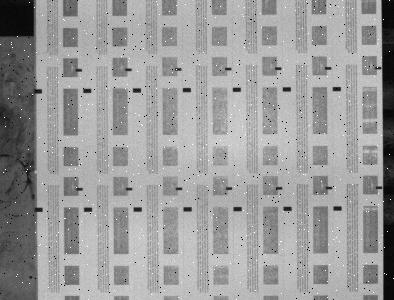backgroundclutter: (29, 275, 33, 279)
qblock: (83, 88, 92, 93), (333, 86, 342, 91), (35, 207, 43, 212), (133, 88, 141, 93), (284, 206, 292, 211), (283, 87, 292, 91), (183, 88, 192, 92), (334, 206, 343, 210), (34, 89, 42, 93), (233, 88, 241, 92), (84, 207, 92, 211), (134, 207, 142, 211), (234, 207, 242, 211), (184, 207, 192, 211)
smallqblock: (225, 67, 232, 71), (76, 187, 83, 191), (76, 68, 82, 72), (376, 66, 382, 70), (125, 68, 132, 71), (275, 67, 282, 70), (175, 68, 182, 71), (126, 187, 133, 190), (326, 186, 333, 189), (276, 187, 283, 190), (176, 187, 183, 190), (226, 187, 233, 190), (376, 186, 383, 189), (326, 67, 332, 70)
